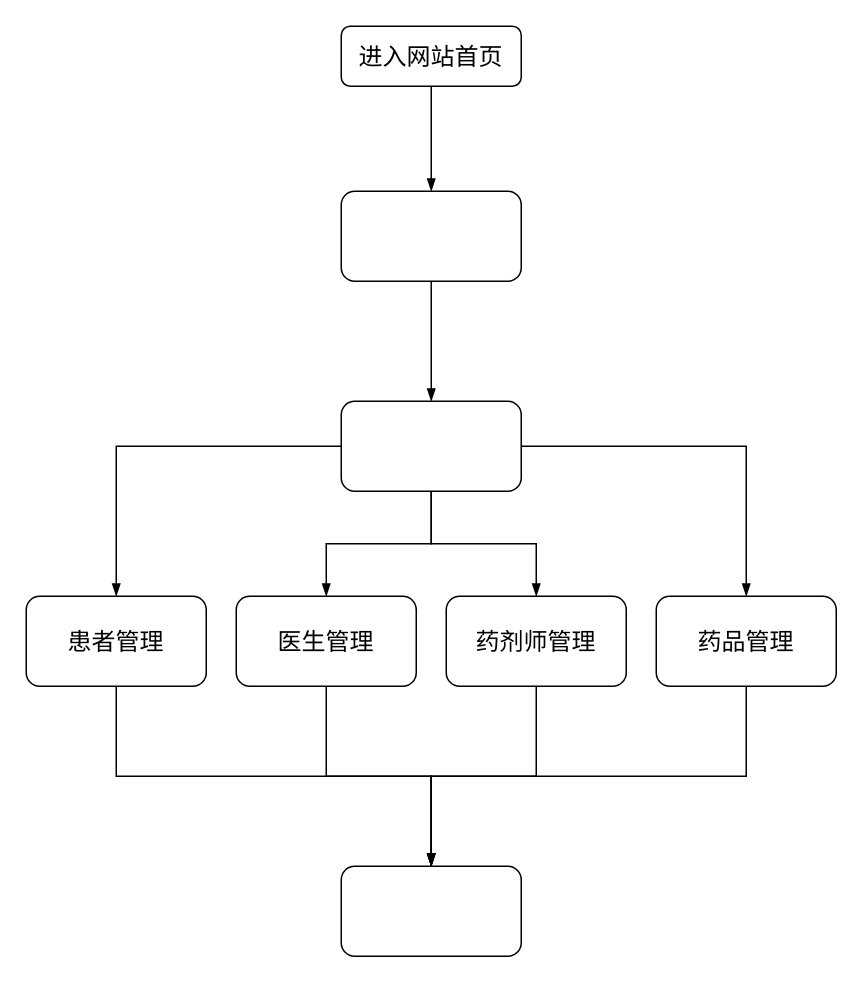
The diagram is 863 pixels wide and 983 high, and some of its shapes have lost their labels. Each missing label, with the box of its shape:
登录: (340, 190, 521, 281)
结束: (340, 865, 521, 956)
进入网站后台: (340, 400, 521, 491)
